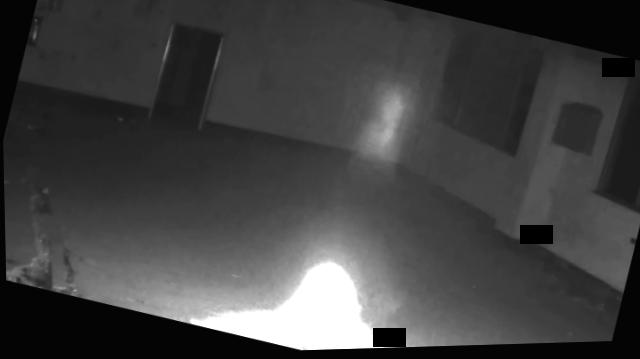fire: (260, 248, 384, 353)
smoke: (352, 75, 421, 169)
